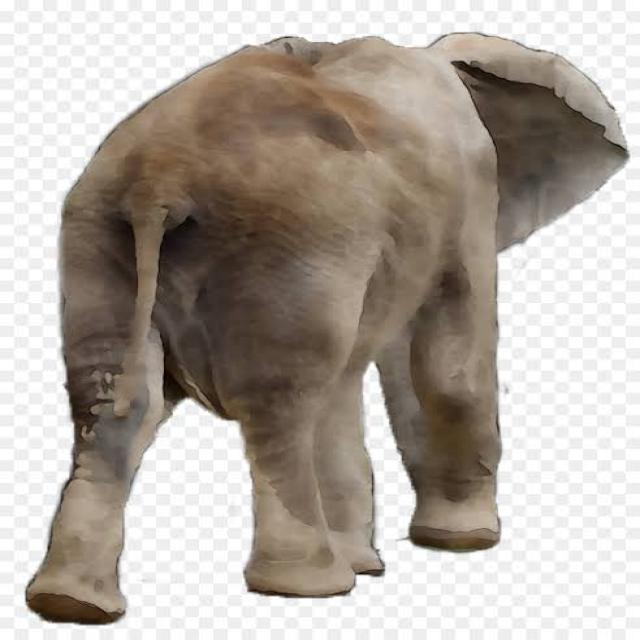Elephant: (24, 30, 628, 624)
